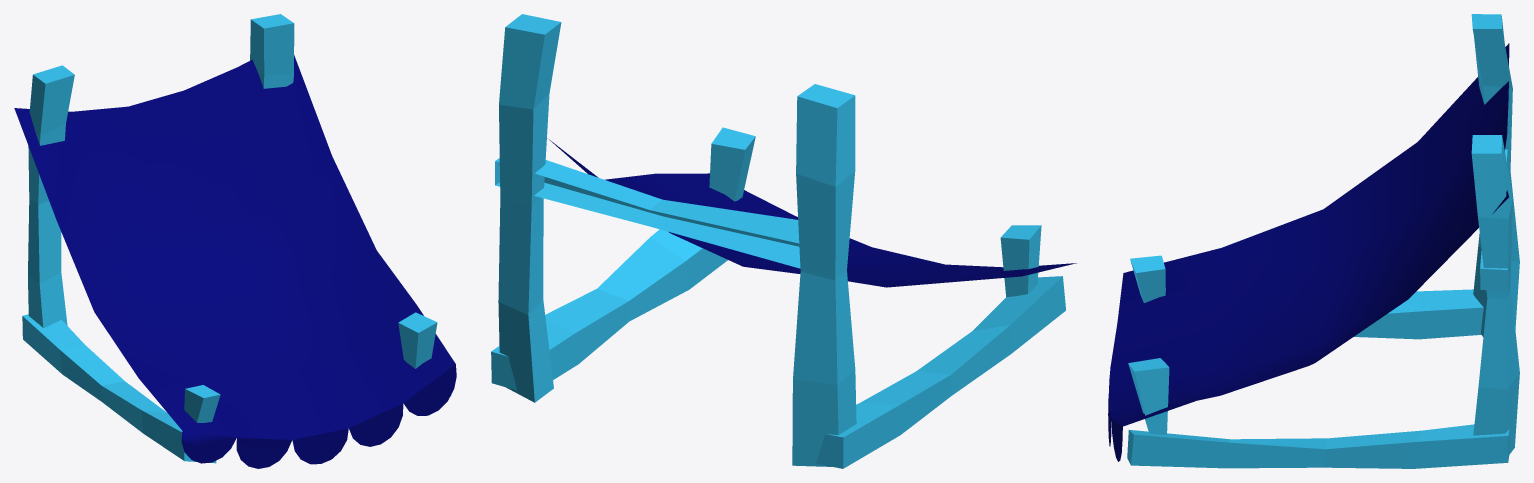
Rendered from Material_roof_small.fbx.
The picture shows the model from 3 angles, left to right: view 1: azimuth 30°, elevation 25°; view 2: azimuth 150°, elevation 25°; view 3: azimuth 270°, elevation 25°; orthographic projection. The views are drawn at different scales.
Parts seen in each view (by area): view 1: Material_roof_small; view 2: Material_roof_small; view 3: Material_roof_small.
Part boxes in pixels (x1,y1,x2,y2): Material_roof_small: (14, 14, 456, 468); Material_roof_small: (491, 14, 1076, 468); Material_roof_small: (1108, 14, 1519, 468).
Size of the model in its own units: 232 by 237 by 261.
